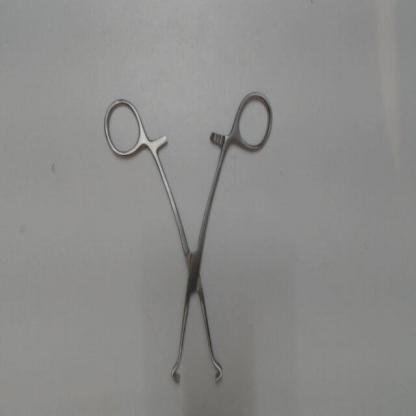Babcock Tissue Forceps: (100, 89, 280, 389)
